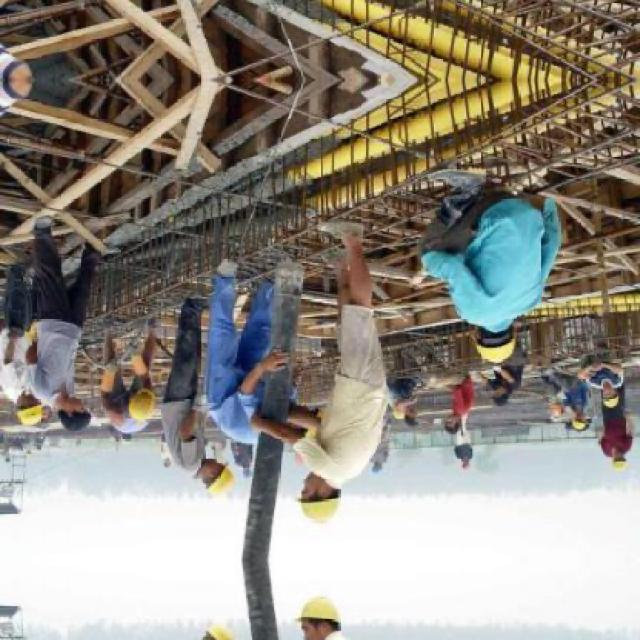con casco: (76, 372, 185, 455), (448, 294, 542, 374), (283, 475, 353, 532), (193, 452, 261, 507), (6, 397, 46, 439)
sin casco: (31, 376, 98, 439)
